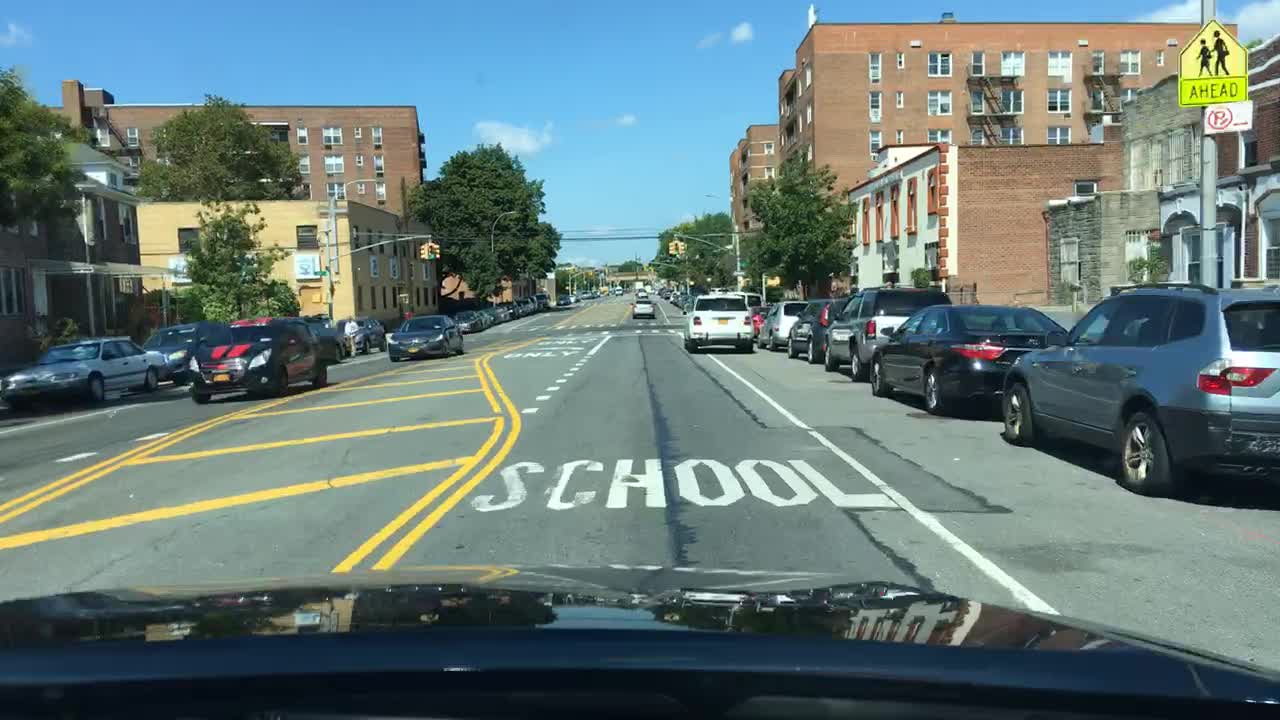car: (999, 281, 1278, 500), (868, 301, 1065, 416), (0, 334, 165, 415), (187, 311, 328, 405), (821, 285, 944, 381), (682, 291, 754, 356), (381, 313, 465, 363), (137, 323, 202, 386), (784, 300, 845, 361), (757, 296, 812, 353), (304, 321, 346, 364), (331, 316, 363, 361), (359, 318, 386, 350), (627, 296, 656, 320), (747, 301, 773, 323), (470, 311, 492, 333), (452, 311, 476, 331), (490, 305, 506, 323), (516, 296, 531, 315), (501, 304, 520, 318), (532, 294, 547, 311), (554, 295, 570, 308), (678, 296, 691, 311), (660, 286, 671, 300), (670, 290, 681, 303), (611, 281, 622, 294), (580, 291, 593, 301), (571, 293, 580, 306)
traffic light: (675, 242, 687, 260), (415, 245, 427, 260), (311, 291, 323, 305), (432, 242, 439, 260), (666, 240, 672, 260), (425, 242, 432, 259), (673, 242, 681, 255), (671, 242, 677, 258)
traffic sign: (1174, 18, 1249, 108), (1201, 99, 1250, 133), (314, 268, 328, 279), (736, 257, 746, 270)
